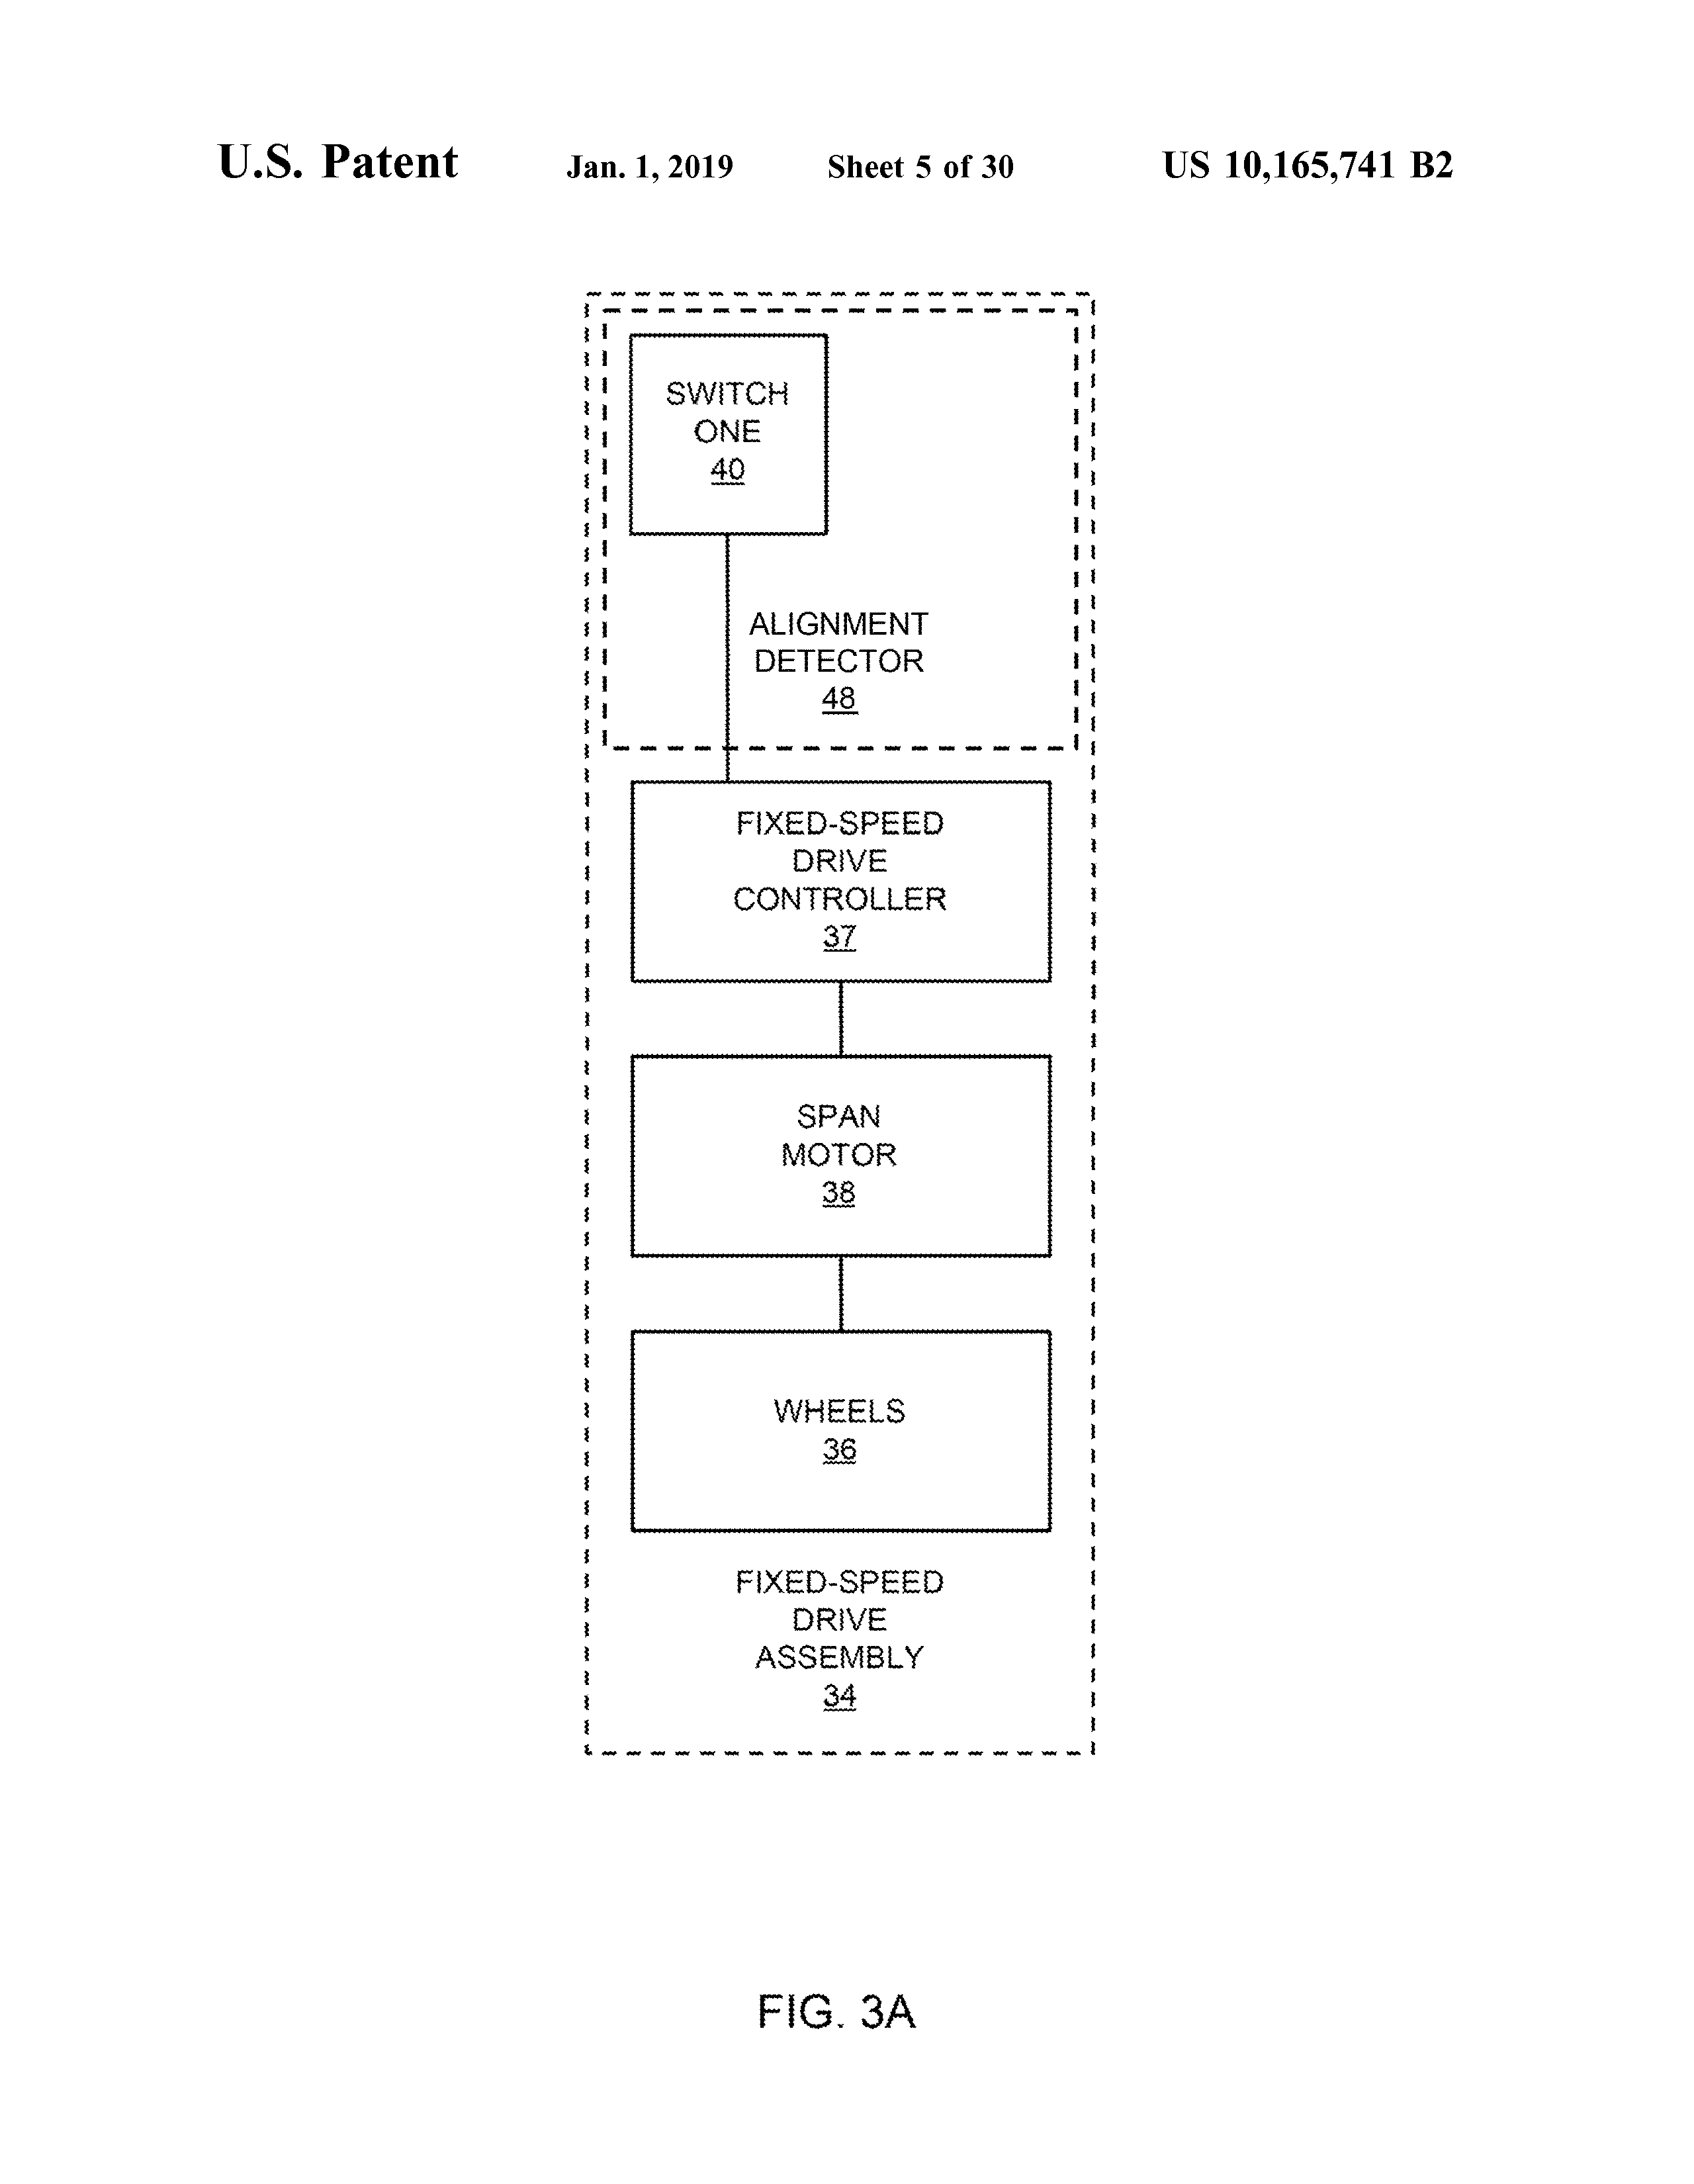patent image: (531, 267, 1124, 2082)
